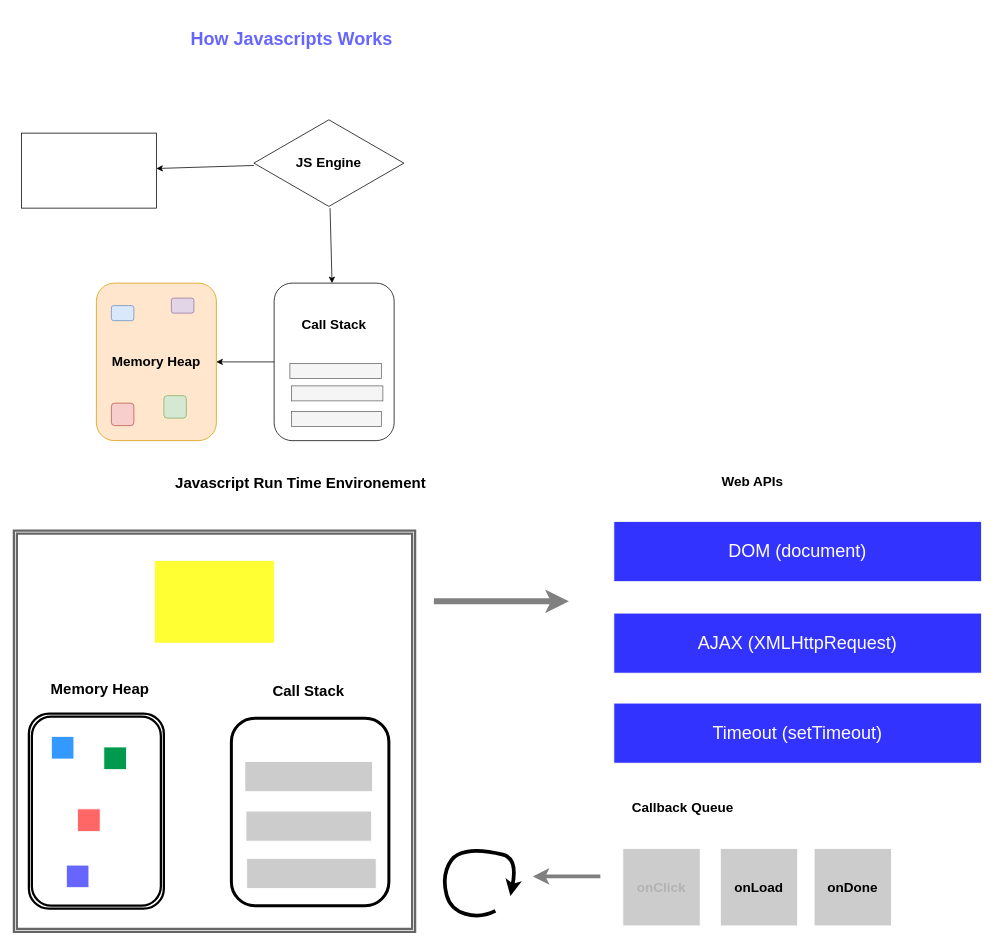
This 995x946 diagram has some shape labels left out. The shapes that lost their labels are listed below. From the top down, each one's centre as x and y in pixels, then its label:
point 88,170: A Web Pages
point 214,601: JS
point 471,808: Event Loop
